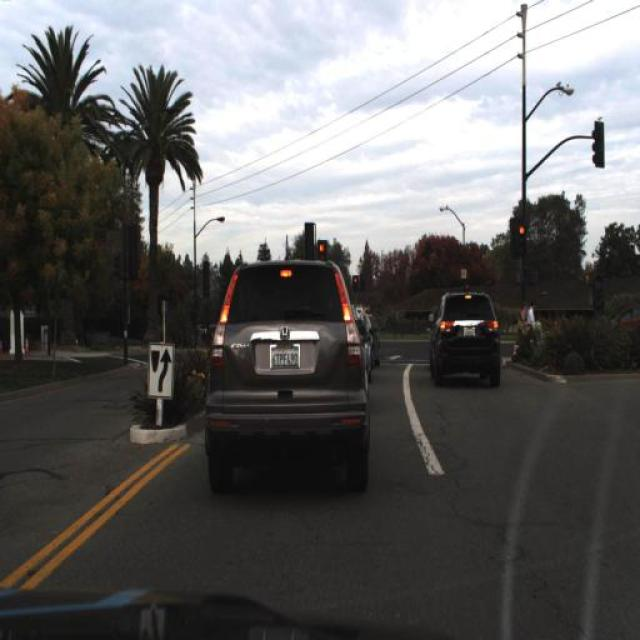car: (199, 257, 370, 495), (426, 288, 502, 388), (607, 298, 639, 346), (518, 306, 528, 346)
trafficLight: (525, 298, 536, 352), (518, 297, 528, 337)
trafficLight-RedLeft: (316, 236, 329, 260), (516, 224, 526, 254), (318, 238, 327, 264), (584, 272, 591, 298)
